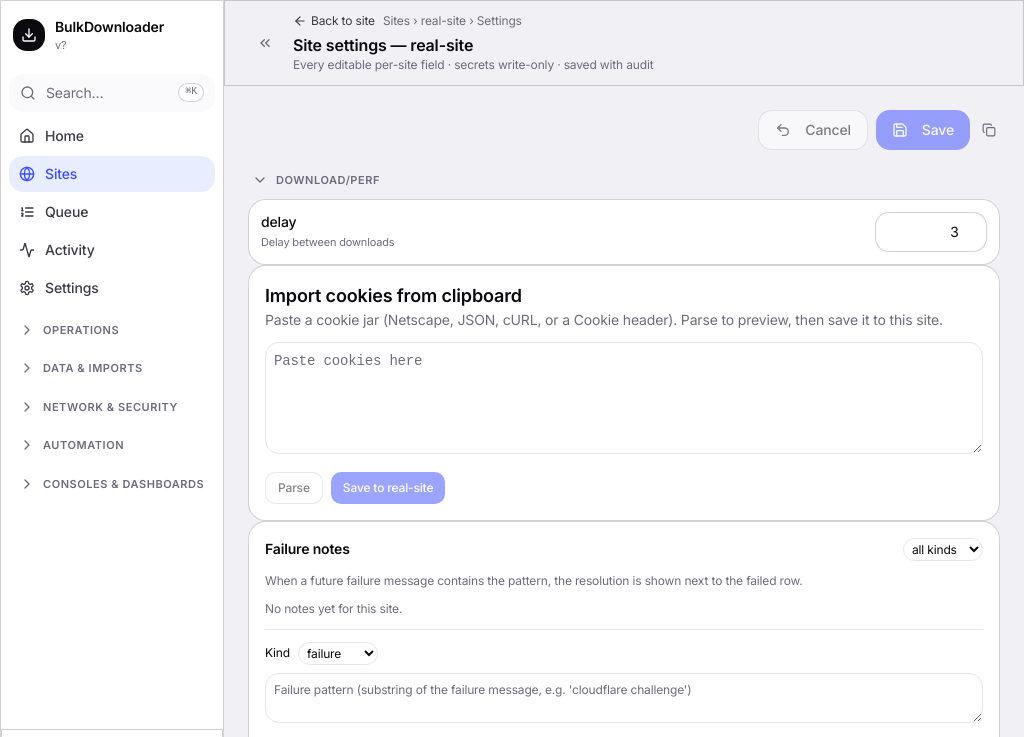
Test case: SiteSettings cancel (F009) › Cancel discards an in-progress edit without saving
The width and height of the screenshot is (1024, 737).
Check: the button "Save" is disabled, box [876,110,970,150]
Check: the button "Cancel" is disabled, box [758,110,868,150]
Replace the text in the number field showing "3" with "9": (931, 232) [875,212,987,252]
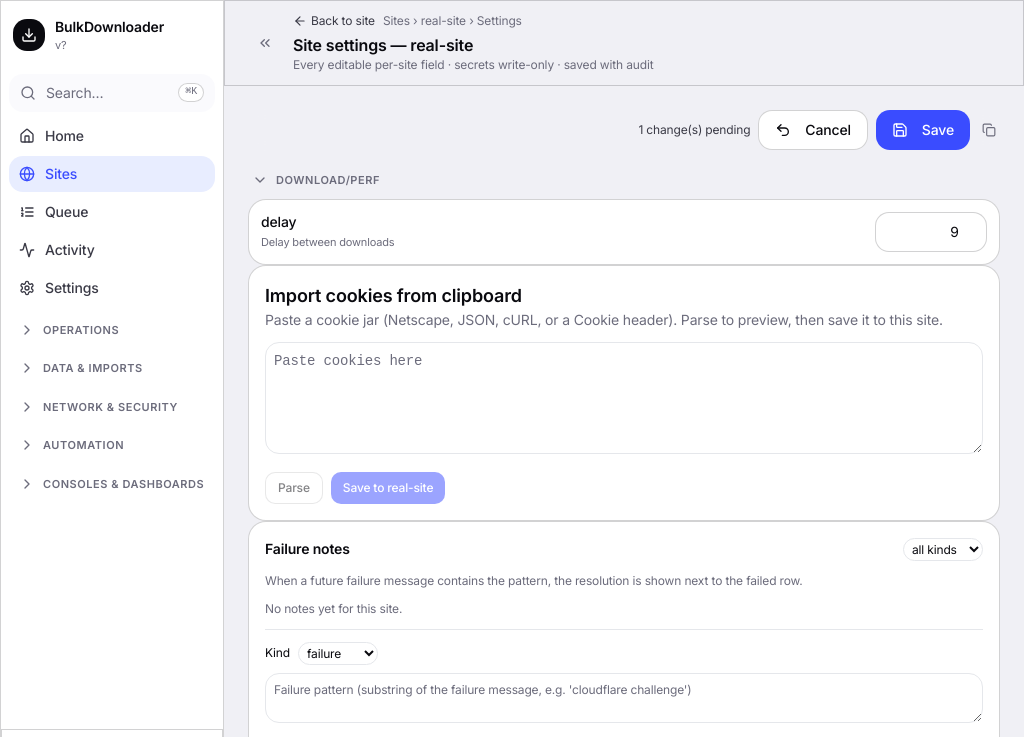
Check: the button "Save" is enabled, box [876,110,970,150]
Check: the button "Cancel" is enabled
Check: the text "1 change(s) pending" is shown, box [638,122,750,138]
Click the button "Cancel": (813, 130) [758,110,868,150]
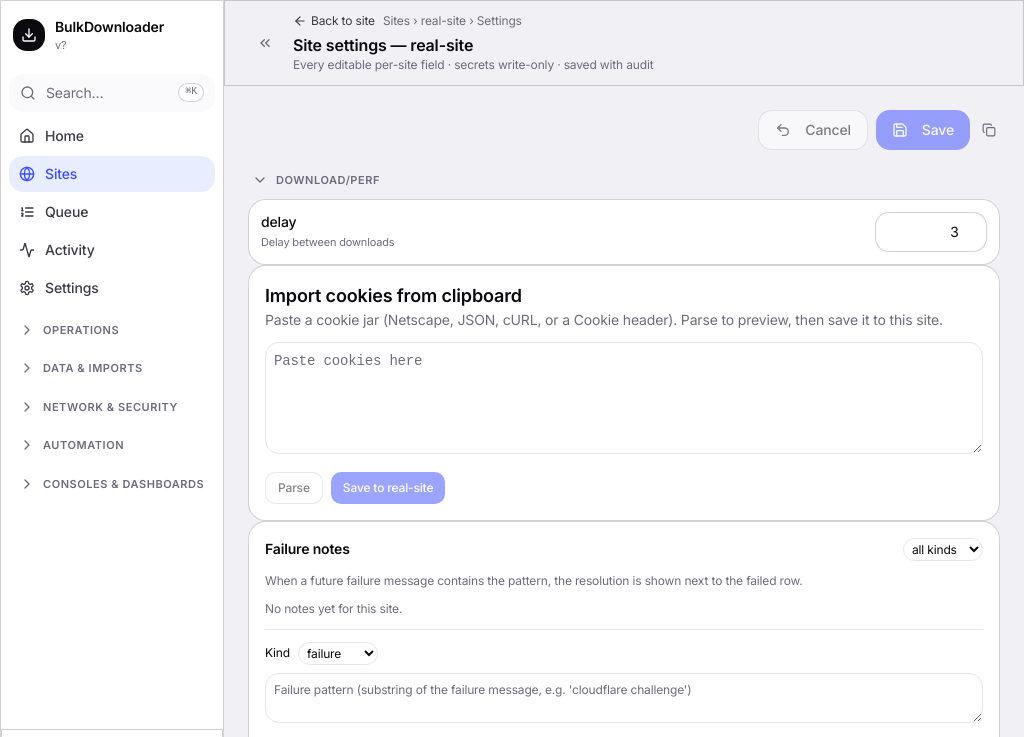
Check: the number field showing "3" holds "3", box [875,212,987,252]
Check: the button "Save" is disabled, box [876,110,970,150]
Check: the button "Cancel" is disabled, box [758,110,868,150]
